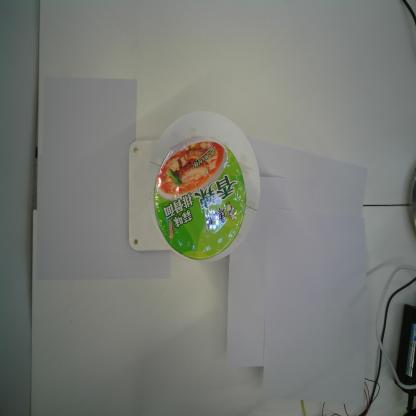Instant Noodles: (153, 135, 247, 262)
